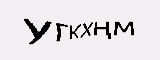Г: (51, 19, 68, 42)
К: (68, 17, 82, 42)
М: (113, 17, 136, 37)
У: (22, 14, 50, 45)
Х: (80, 19, 94, 39)
Ң: (93, 17, 112, 40)
